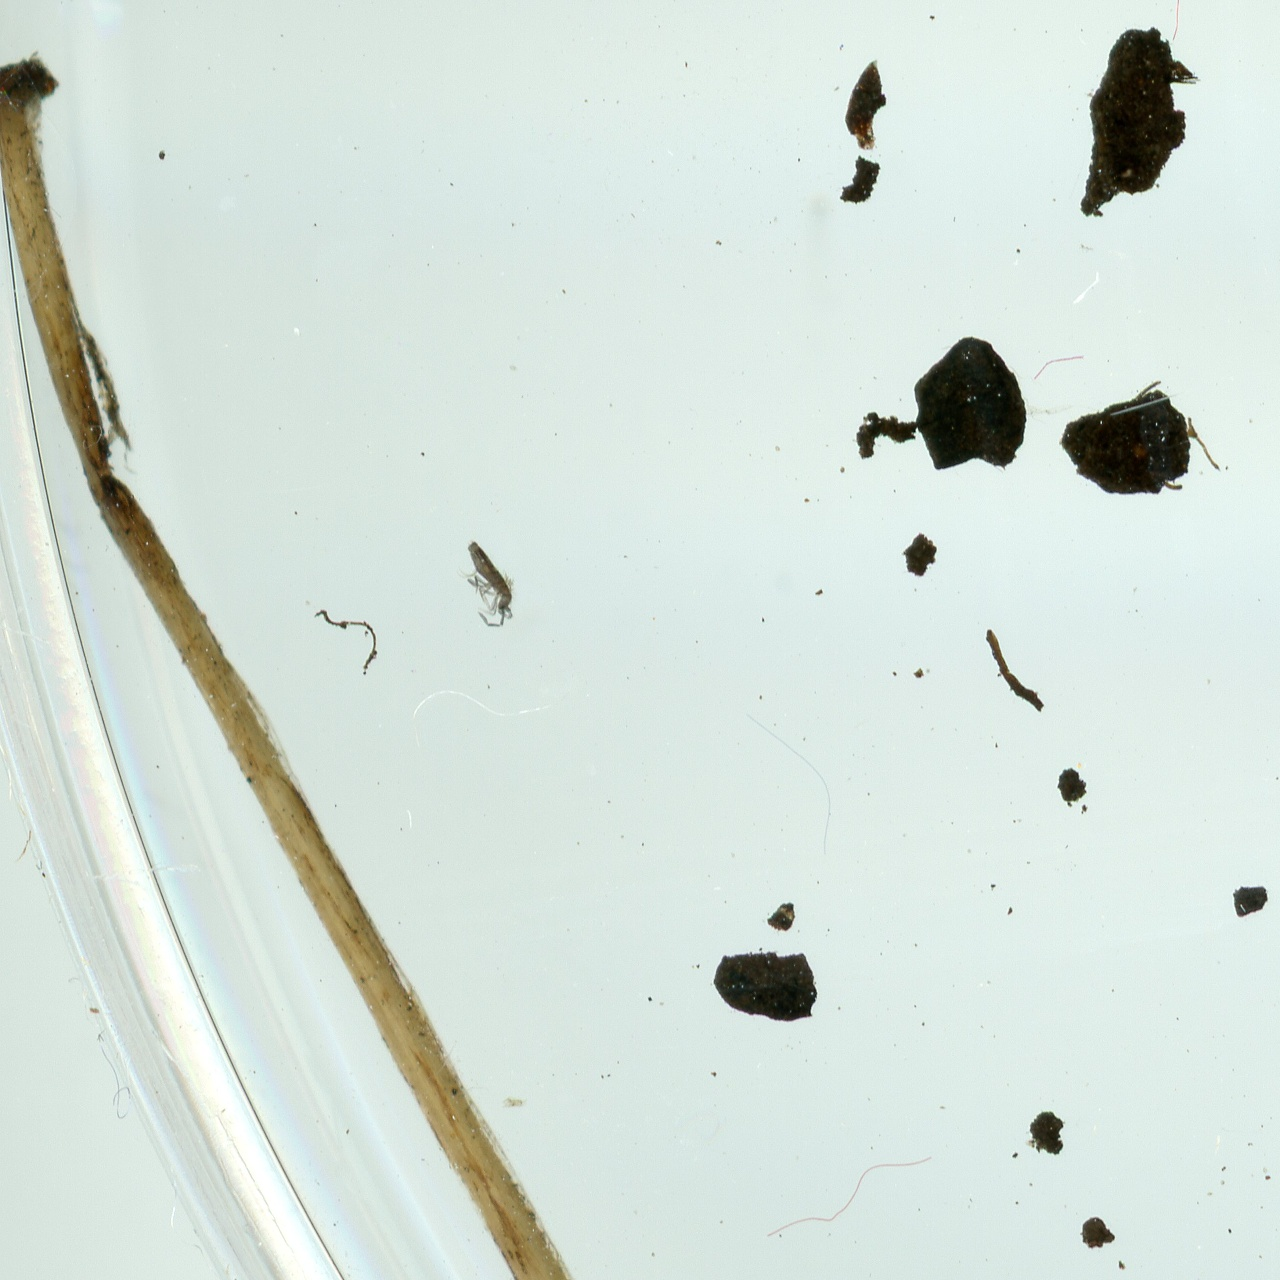arthropod: (434, 524, 536, 639)
